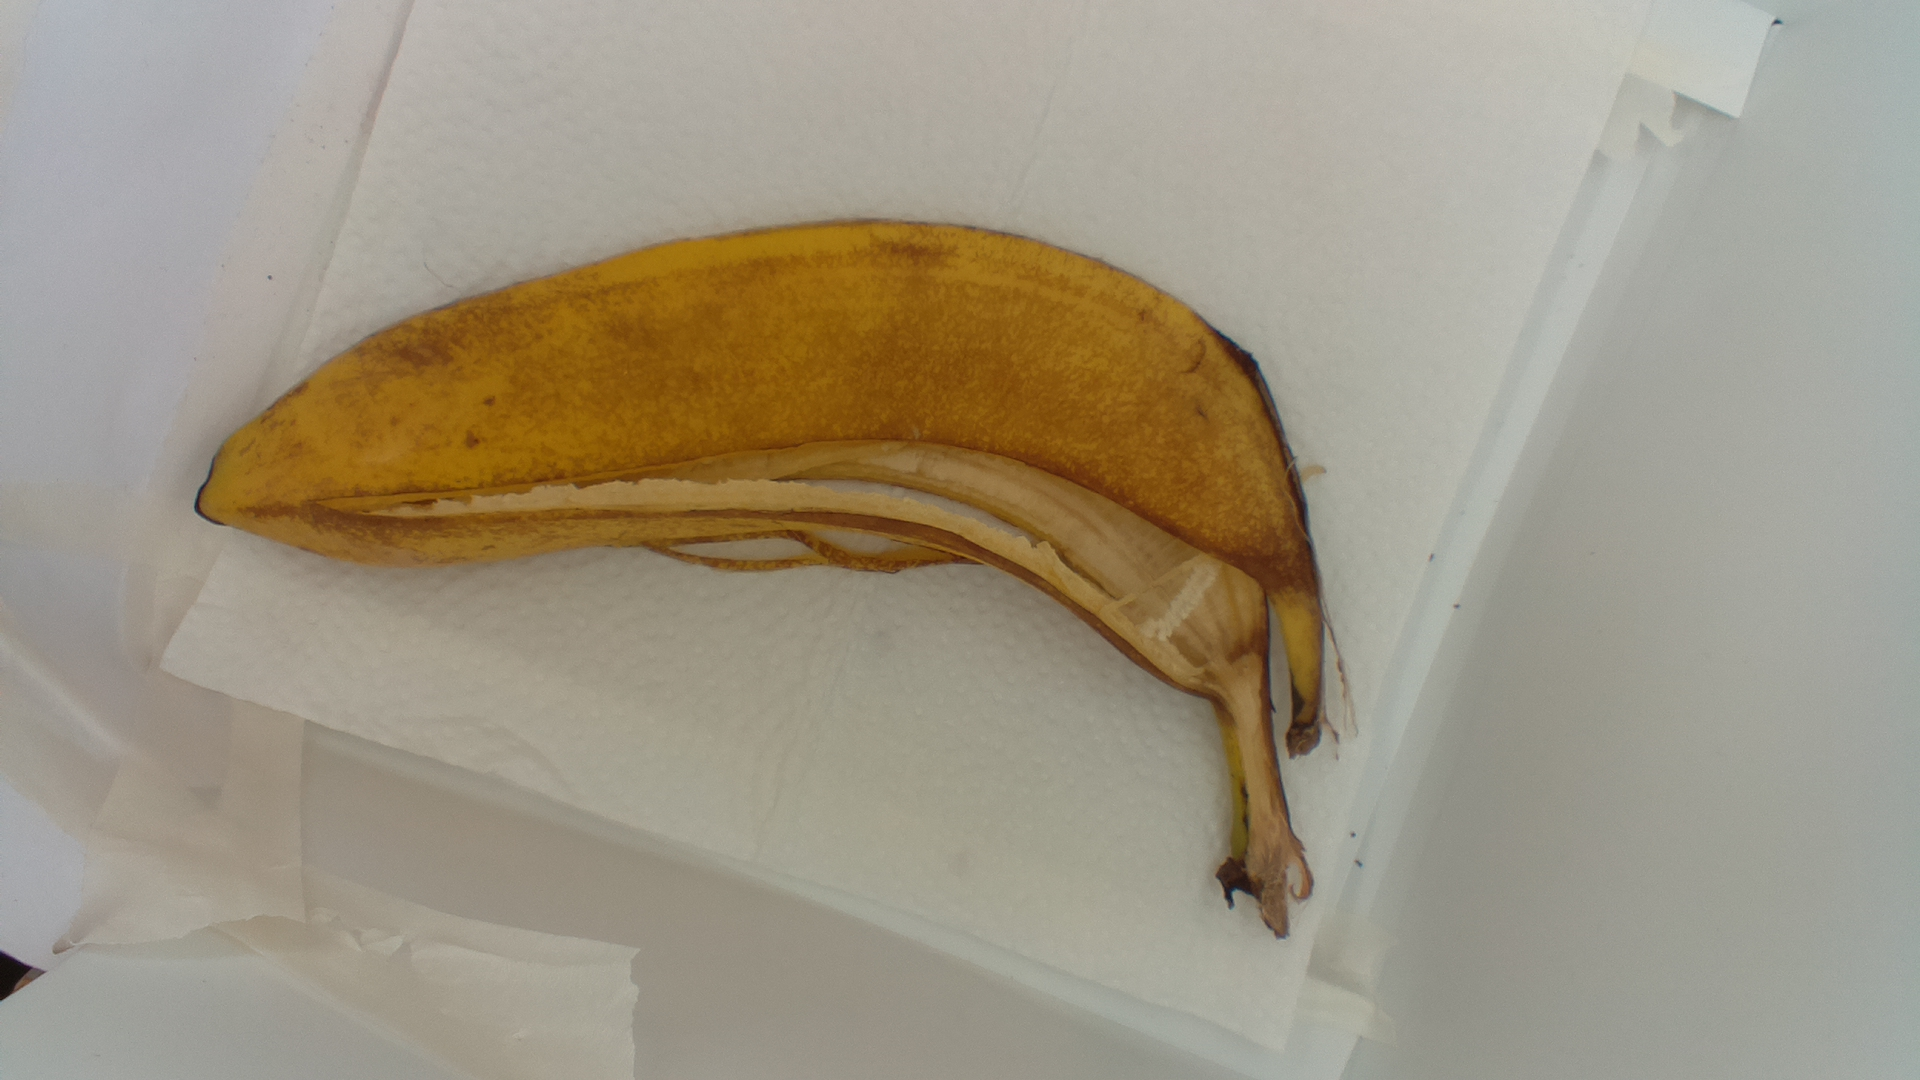fruit: (193, 215, 1369, 948)
